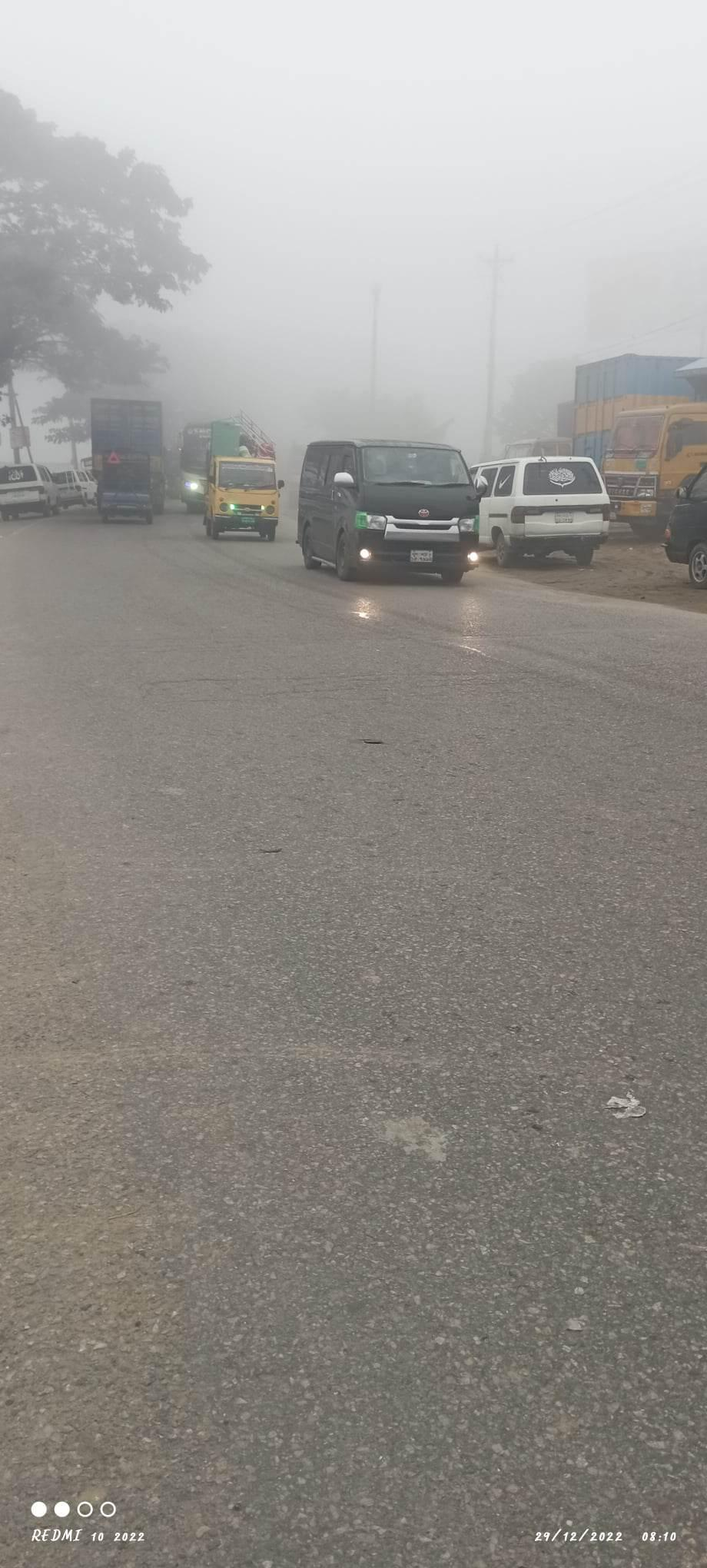Car: (290, 430, 493, 602), (479, 453, 626, 573), (2, 453, 54, 543), (51, 462, 86, 519)
Truck: (194, 445, 289, 545), (91, 435, 163, 540)
